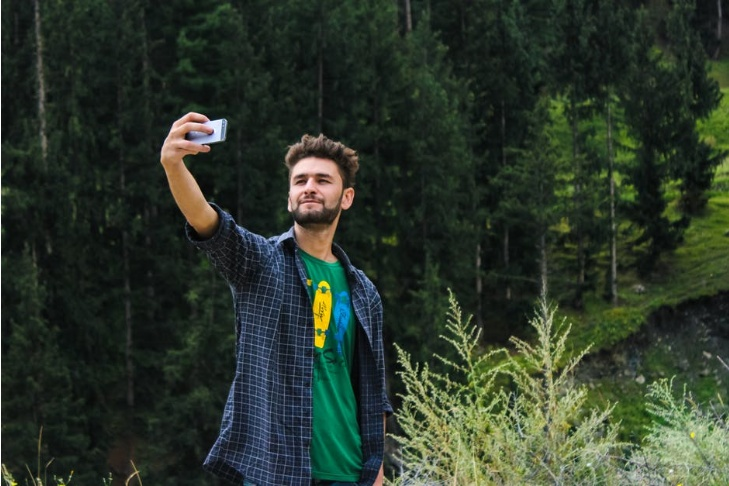face: (288, 157, 340, 221)
